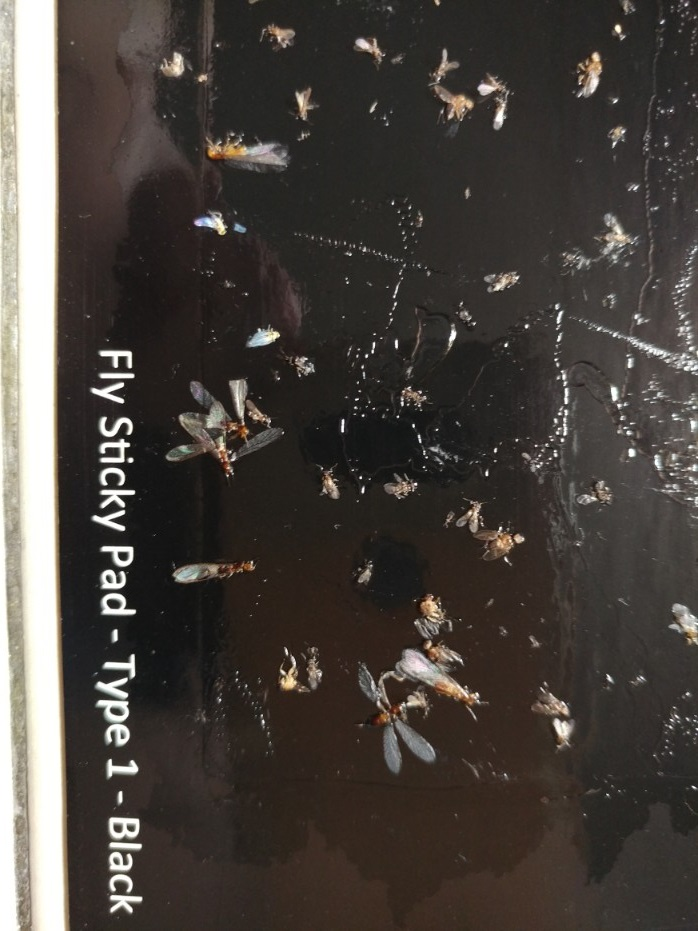flying termite: (351, 662, 433, 782), (395, 646, 494, 727), (197, 127, 298, 181), (168, 552, 266, 588)
